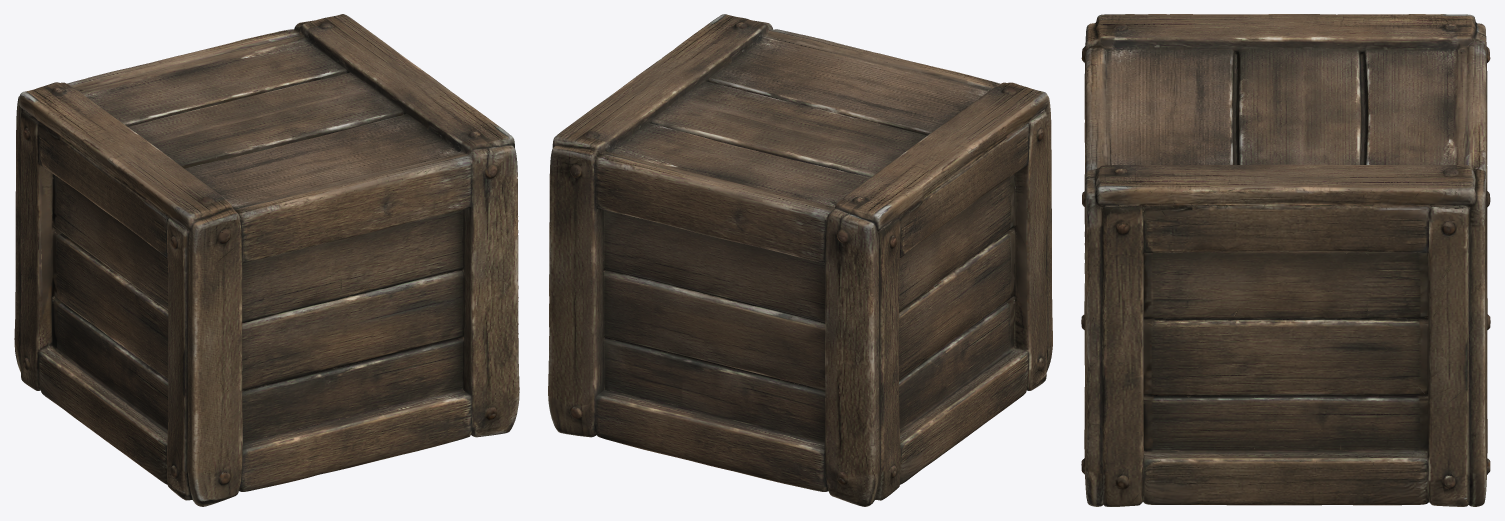
Rendered from Meshy_AI_Weathered_Wooden_Crat_0616194944_texture.fbx.
3 views of the same model, side by side, from view 1: azimuth 30°, elevation 25°; view 2: azimuth 150°, elevation 25°; view 3: azimuth 270°, elevation 25° (orthographic). The views are drawn at different scales.
Visible parts, largest first — view 1: Mesh_0; view 2: Mesh_0; view 3: Mesh_0.
Part boxes in pixels (left/top/right/bottom): Mesh_0: left=14, top=14, right=519, bottom=506; Mesh_0: left=548, top=14, right=1052, bottom=506; Mesh_0: left=1081, top=14, right=1490, bottom=506.
Bounding box in the file's own units: 191 × 161 × 181.
Materials: 1 (1 with a texture image).
